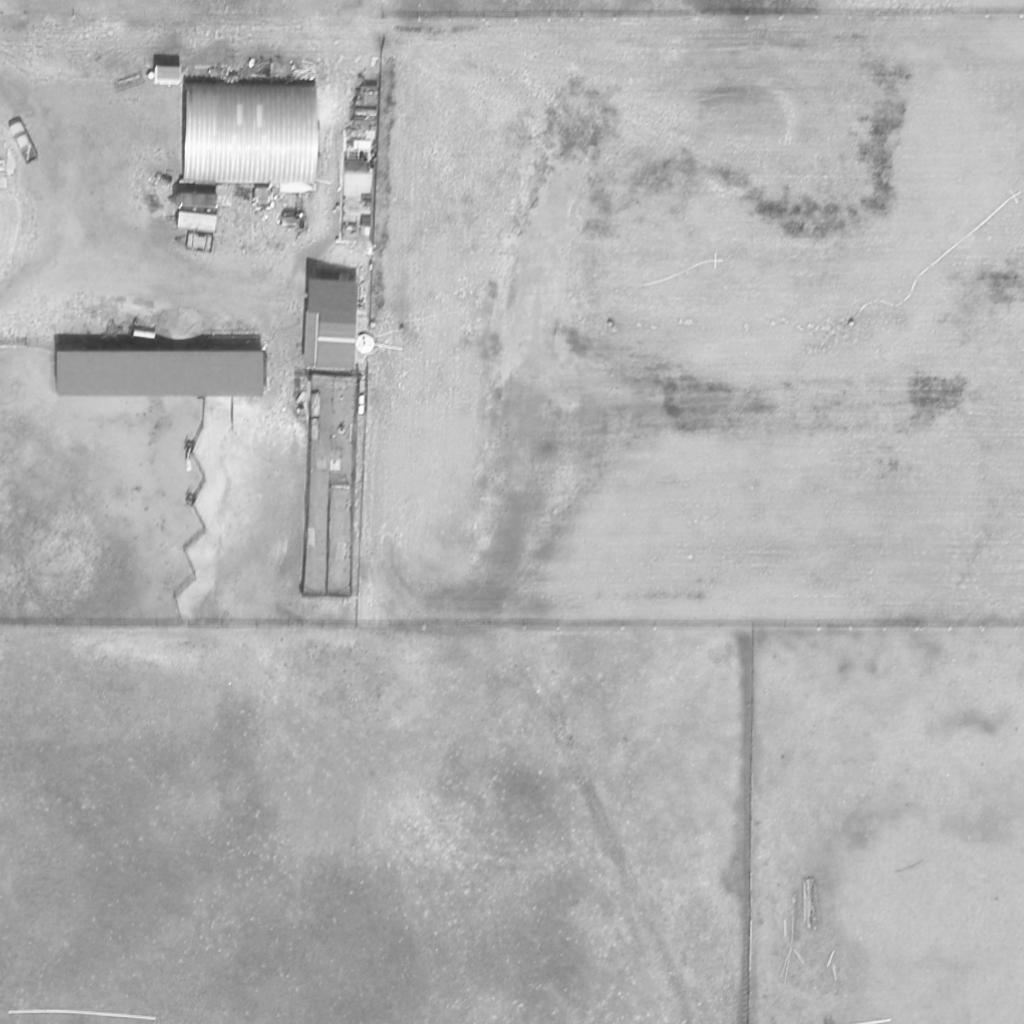vehicle: (8, 122, 40, 166)
